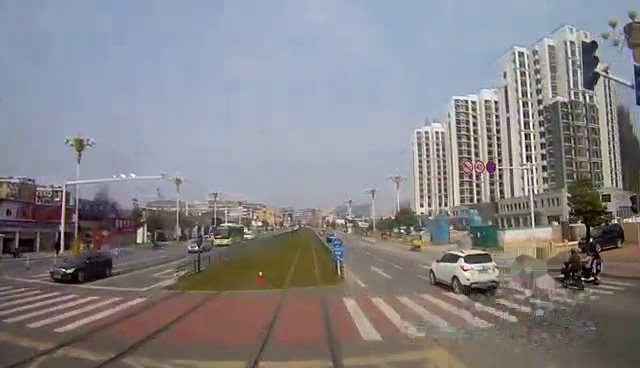bus: (215, 217, 251, 249)
car: (423, 243, 506, 297), (49, 248, 116, 287)
